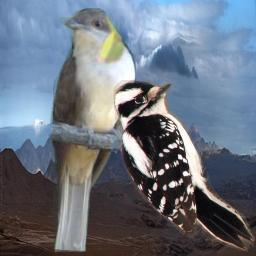Cuckoo: (47, 8, 136, 252)
Woodpecker: (113, 80, 255, 255)
